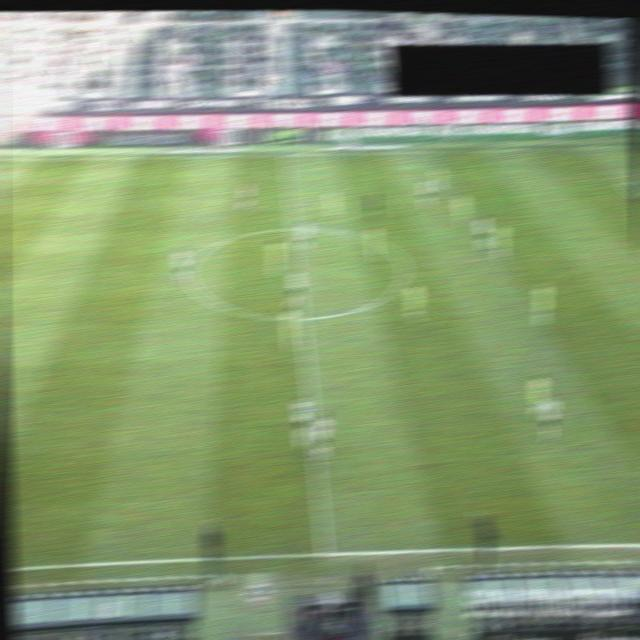bigarea_top_inner: (613, 176, 631, 188)
halfcircle_bottom: (293, 313, 310, 324)
halfcircle_top: (285, 222, 302, 233)
midline_bottom_intersection: (309, 541, 340, 564)
midline_top_intersection: (277, 149, 295, 159)
